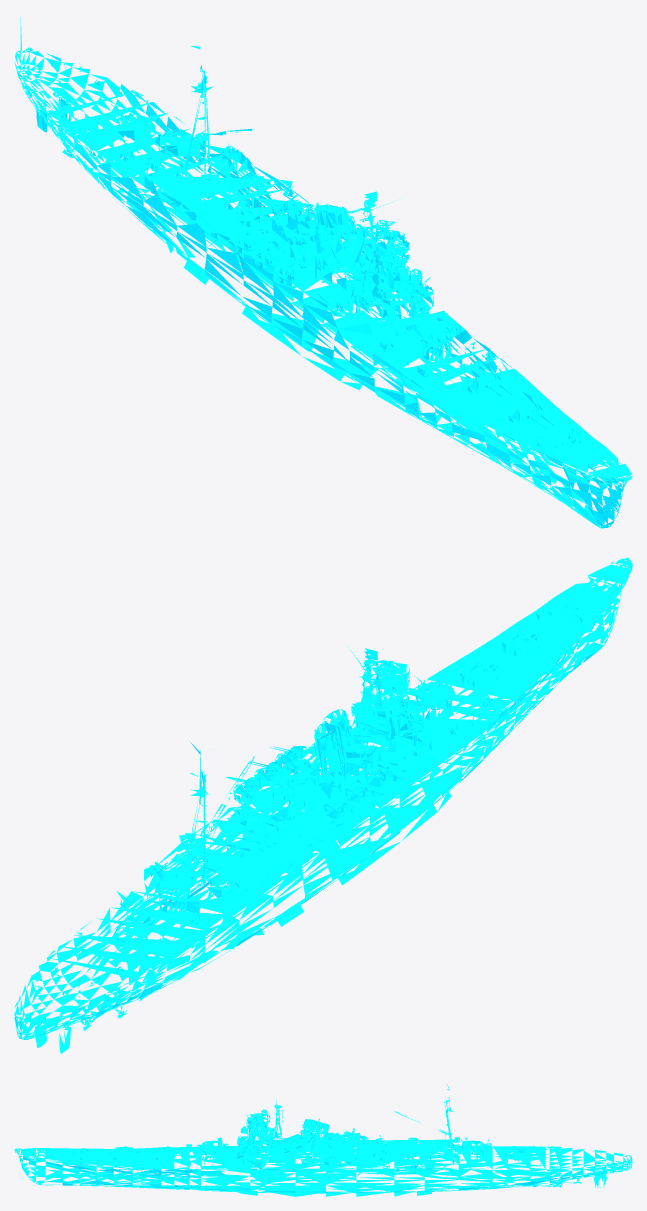
File: Kushiro.glb
3 renders of one model, top to bottom at view 1: azimuth 30°, elevation 25°; view 2: azimuth 150°, elevation 25°; view 3: azimuth 270°, elevation 25°, orthographic. The views are drawn at different scales.
Size of the model in its own units: 1.92 by 2.73 by 14.84.
